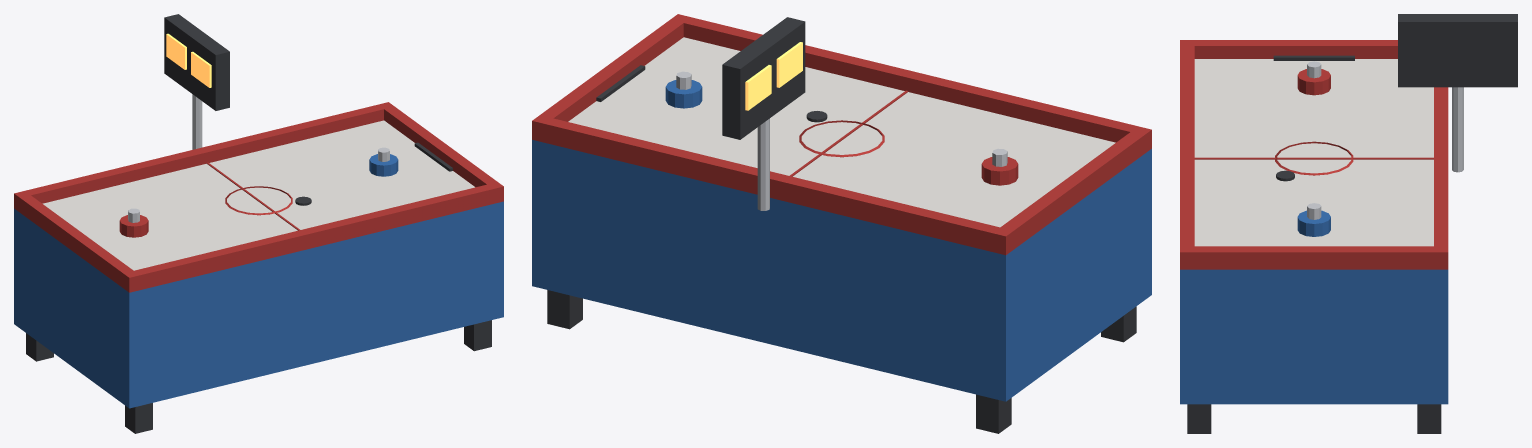
Rendered from air_hockey.glb.
The picture shows the model from 3 angles, left to right: view 1: azimuth 30°, elevation 25°; view 2: azimuth 150°, elevation 25°; view 3: azimuth 270°, elevation 25°; orthographic projection. The views are drawn at different scales.
Parts seen in each view (by area): view 1: air_hockey; view 2: air_hockey; view 3: air_hockey.
Part boxes in pixels (bbox=[...]): air_hockey: bbox=[14, 14, 503, 433]; air_hockey: bbox=[532, 14, 1151, 433]; air_hockey: bbox=[1180, 14, 1517, 433].
Bounding box in the file's own units: 2.1 × 1.45 × 1.41.
